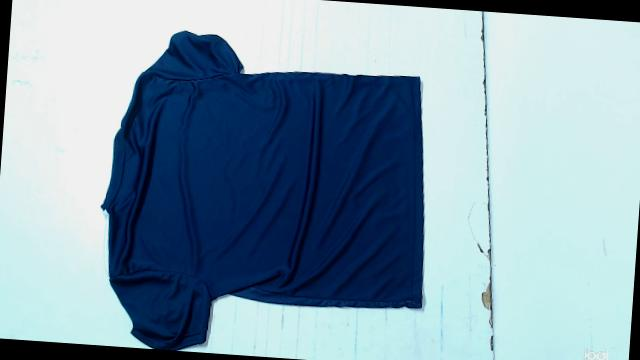new-garment: (102, 31, 423, 350)
